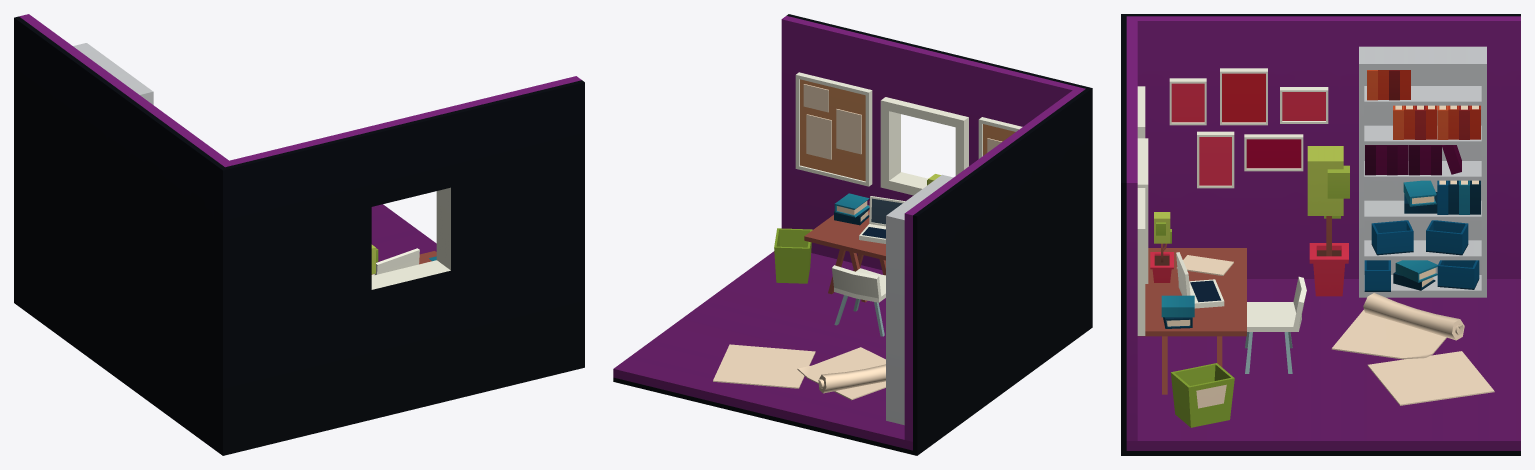
File: Room2_Study_Library.glb
3 views of the same model, side by side, from view 1: azimuth 30°, elevation 25°; view 2: azimuth 150°, elevation 25°; view 3: azimuth 270°, elevation 25° (orthographic). The views are drawn at different scales.
Visible parts, largest first — view 1: Walls2, BookShelf, Laptop; view 2: Walls2, Cork_Board2, BookShelf, Paper8, Container1, Paper7, Top, Top1, Paper_Roll, Laptop, Paper4, Paper5 (+3 smaller); view 3: Walls2, BookShelf, Top, Paper8, Paper7, Container1, Picture9, pCube11 (×2), pCube9 (×2), Picture12, Picture11, Paper_Roll (+18 smaller).
Boxes of the visible parts, left/top/right/bottom form: Walls2: left=14, top=14, right=584, bottom=455; BookShelf: left=73, top=43, right=153, bottom=104; Laptop: left=371, top=248, right=419, bottom=275; Walls2: left=613, top=14, right=1092, bottom=455; Cork_Board2: left=795, top=72, right=872, bottom=186; BookShelf: left=886, top=174, right=953, bottom=425; Paper8: left=713, top=344, right=815, bottom=388; Container1: left=774, top=228, right=812, bottom=283; Paper7: left=797, top=347, right=885, bottom=400; Top: left=804, top=205, right=885, bottom=260; Top1: left=832, top=265, right=885, bottom=302; Paper_Roll: left=818, top=364, right=885, bottom=393; Laptop: left=859, top=196, right=905, bottom=243; Paper4: left=806, top=114, right=831, bottom=159; Paper5: left=836, top=109, right=861, bottom=154; Walls2: left=1121, top=14, right=1520, bottom=455; BookShelf: left=1359, top=46, right=1486, bottom=297; Top: left=1138, top=248, right=1246, bottom=336; Paper8: left=1367, top=351, right=1494, bottom=405; Paper7: left=1331, top=310, right=1446, bottom=359; Container1: left=1170, top=363, right=1234, bottom=427; Picture9: left=1220, top=68, right=1267, bottom=125; pCube11 (×2): left=1154, top=146, right=1343, bottom=243; pCube9 (×2): left=1150, top=243, right=1348, bottom=296; Picture12: left=1244, top=134, right=1303, bottom=171; Picture11: left=1197, top=131, right=1234, bottom=188; Paper_Roll: left=1363, top=293, right=1464, bottom=340.
Size of the model in its own units: 365 by 275 by 365.
Materials: 1 (1 with a texture image).
